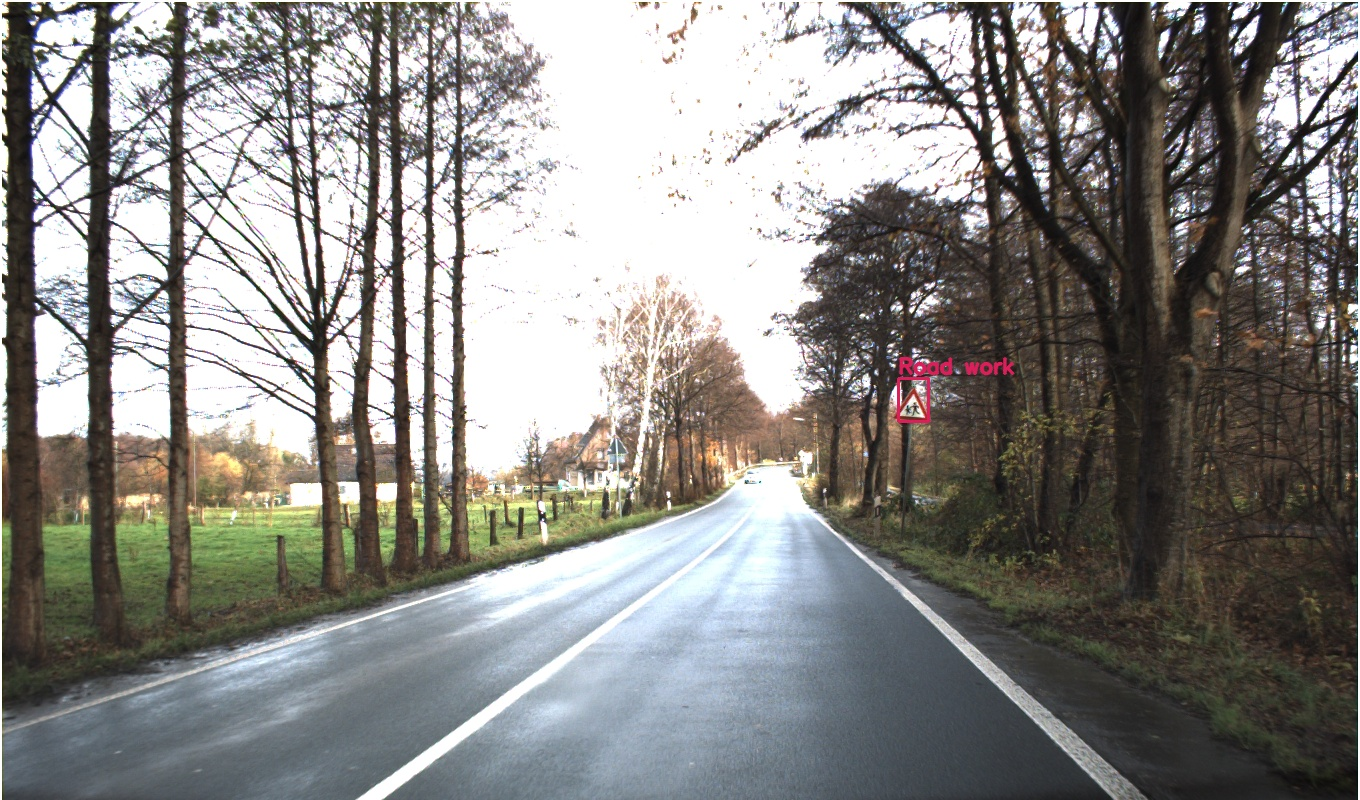Speed limit (30km/h): (1202, 329, 1247, 374)
